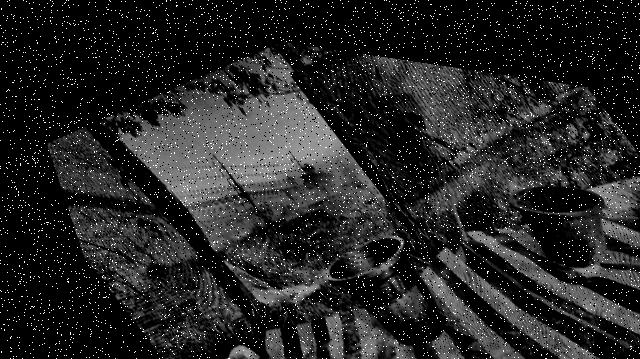pot: (326, 236, 447, 344), (509, 184, 608, 267)
